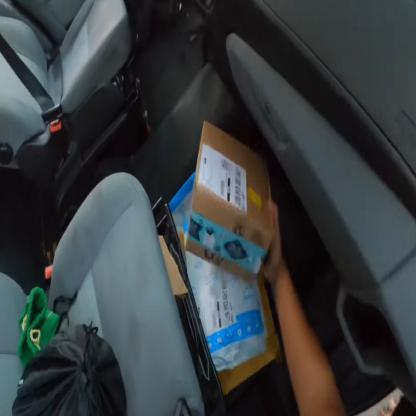package: (184, 116, 271, 284)
